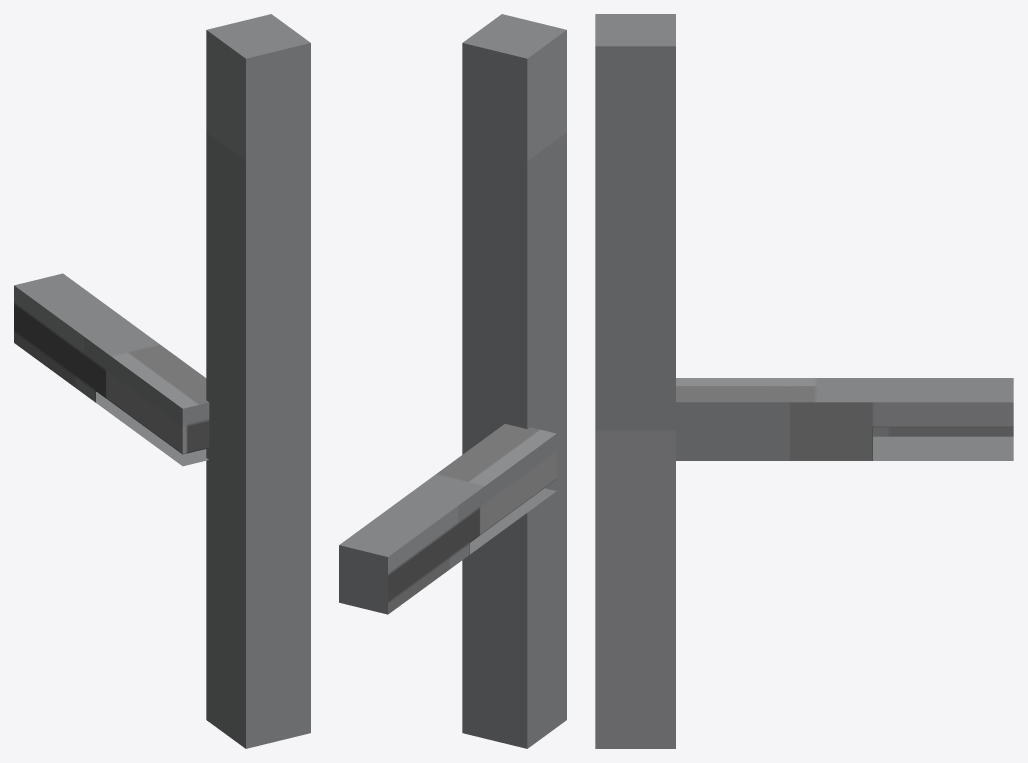
The picture shows the model from 3 angles, left to right: view 1: azimuth 30°, elevation 25°; view 2: azimuth 150°, elevation 25°; view 3: azimuth 270°, elevation 25°; orthographic projection.
Size of the model in its own units: 0.1591 by 1.15 by 0.6188.
